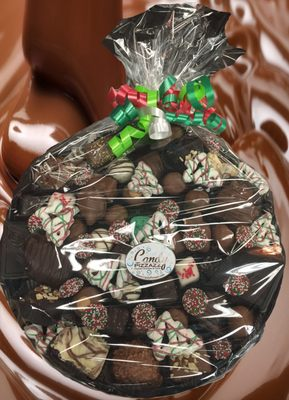pizza: (0, 1, 289, 387)
